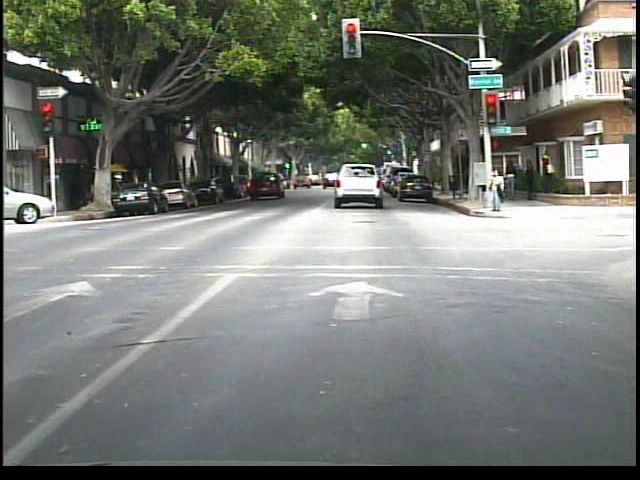person: (483, 166, 507, 216), (521, 157, 539, 204), (503, 158, 521, 204), (537, 150, 556, 193)
